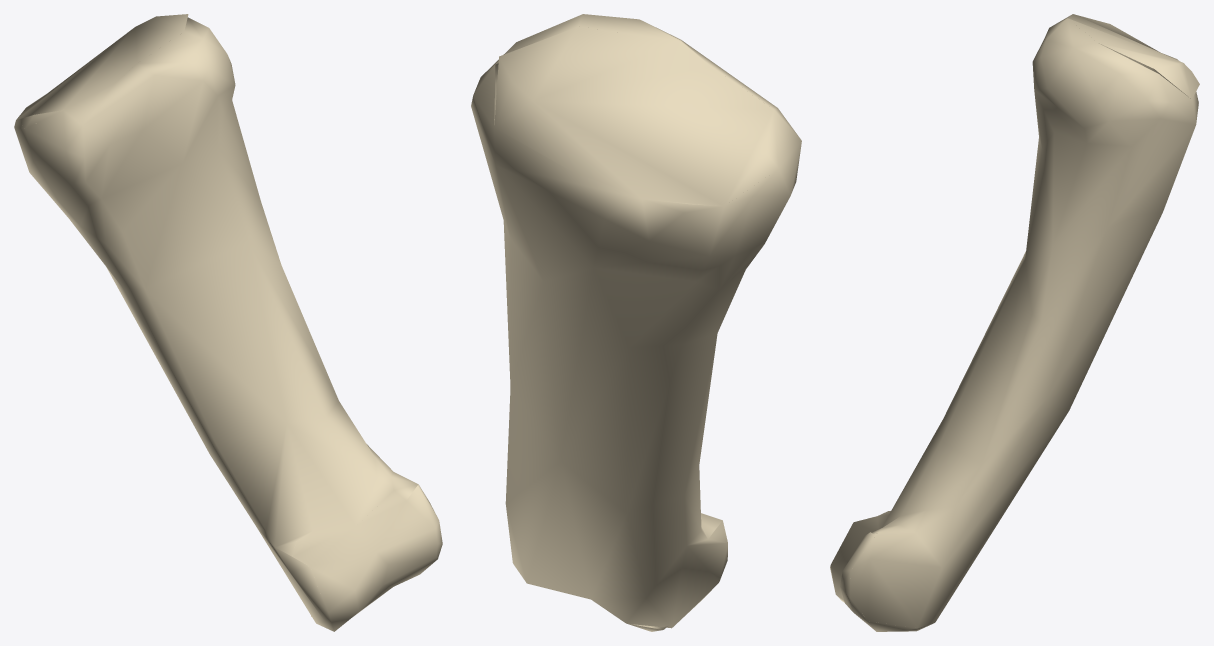
The model's file is esqueleto-proximal-phalanx-of-second-finger-of-hand-l.glb.
The picture shows the model from 3 angles, left to right: view 1: azimuth 30°, elevation 25°; view 2: azimuth 150°, elevation 25°; view 3: azimuth 270°, elevation 25°; orthographic projection. The views are drawn at different scales.
Visible parts, largest first — view 1: Proximal phalanx of second finger of hand.l; view 2: Proximal phalanx of second finger of hand.l; view 3: Proximal phalanx of second finger of hand.l.
Part boxes in pixels (x1,y1,x2,y2): Proximal phalanx of second finger of hand.l: (14,14,442,631); Proximal phalanx of second finger of hand.l: (471,14,801,631); Proximal phalanx of second finger of hand.l: (830,14,1199,631).
Bounding box in the file's own units: 0.0227 × 0.0389 × 0.0236.
